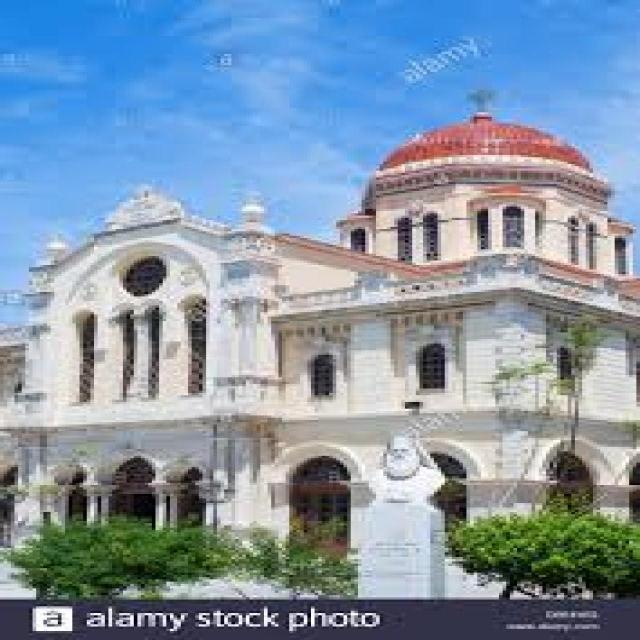Agios Minas: (6, 82, 640, 566)
